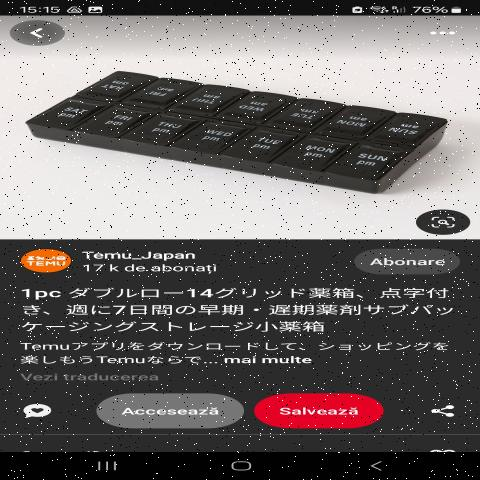hands: (22, 50, 453, 202)
